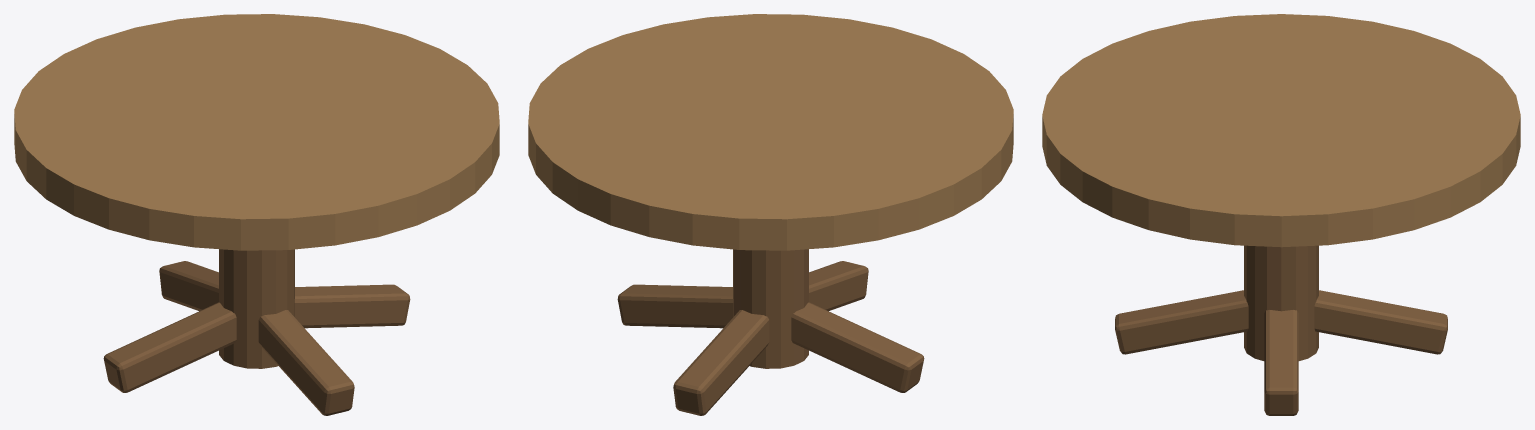
Rendered from SM_IntellectualGrandpaHouse_ChessTable.fbx.
3 views of the same model, side by side, from view 1: azimuth 30°, elevation 25°; view 2: azimuth 150°, elevation 25°; view 3: azimuth 270°, elevation 25° (orthographic).
Visible parts, largest first — view 1: SM_IntellectualGrandpaHouse_ChessTable; view 2: SM_IntellectualGrandpaHouse_ChessTable; view 3: SM_IntellectualGrandpaHouse_ChessTable.
Boxes of the visible parts, <box> form: SM_IntellectualGrandpaHouse_ChessTable: <box>14,14,499,415</box>; SM_IntellectualGrandpaHouse_ChessTable: <box>528,14,1013,415</box>; SM_IntellectualGrandpaHouse_ChessTable: <box>1042,14,1520,415</box>.
Size of what is drawn, in the model's own units: 140 by 140 by 75.59.
